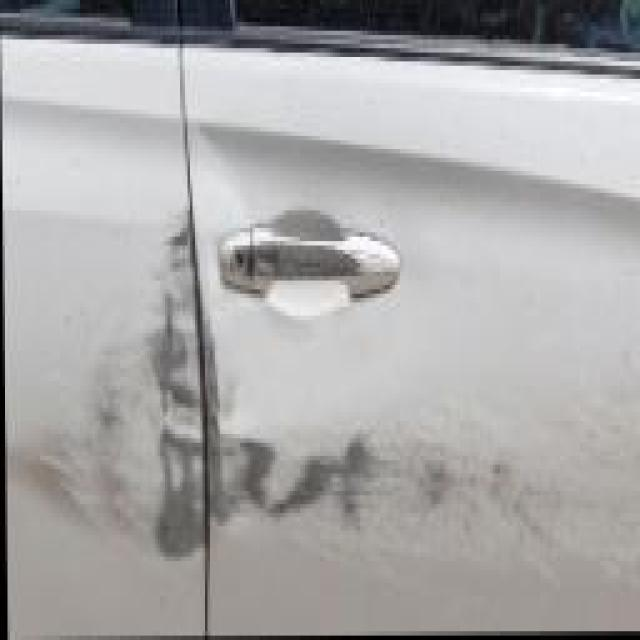Door: (186, 152, 640, 632), (5, 156, 204, 637)
